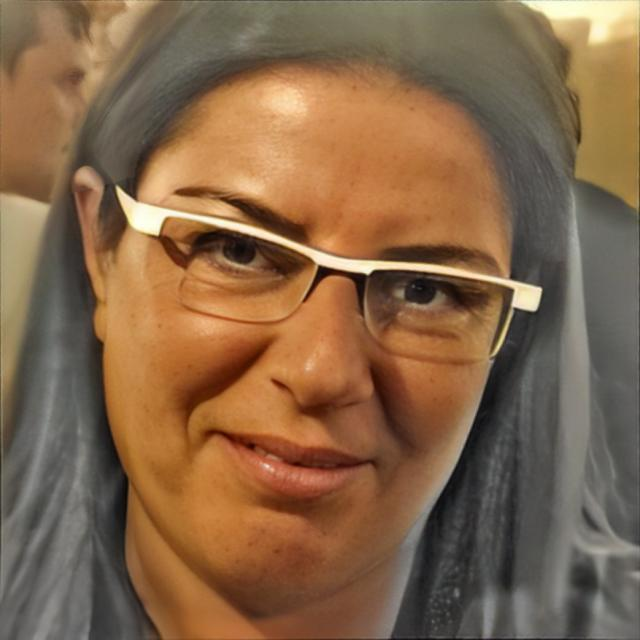disgust: (104, 56, 518, 615)
